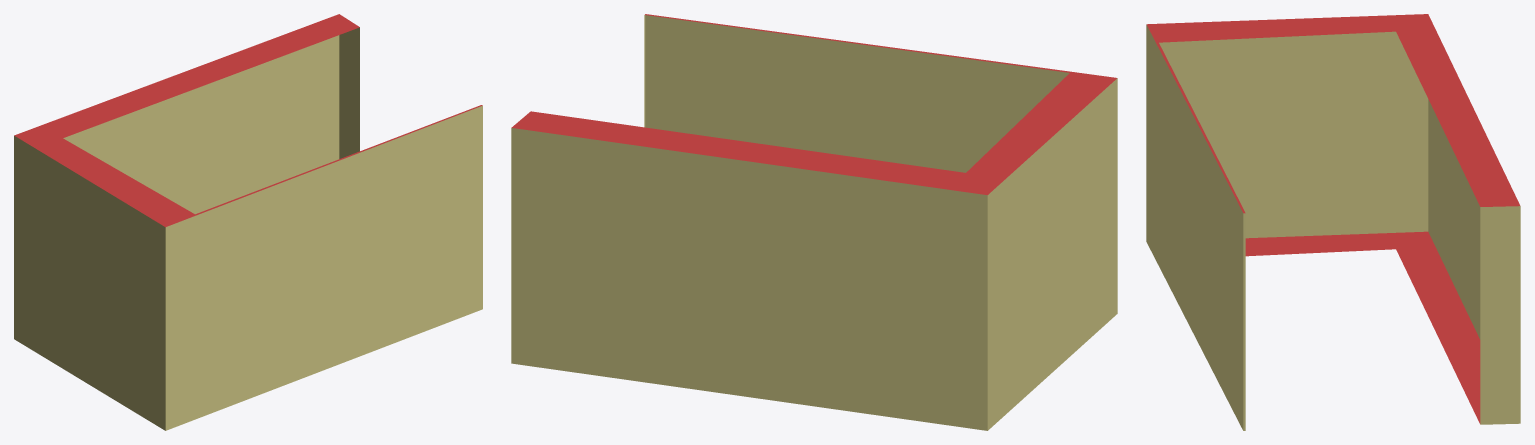
The picture shows the model from 3 angles, left to right: view 1: azimuth 30°, elevation 25°; view 2: azimuth 150°, elevation 25°; view 3: azimuth 270°, elevation 25°; orthographic projection. The views are drawn at different scales.
Visible parts, largest first — view 1: group_4, group_3; view 2: group_4, group_3; view 3: group_4, group_3, group_5.
Part boxes in pixels (x1,y1,x2,y2): group_4: (14,27,482,430); group_3: (14,14,482,227); group_4: (511,15,1117,430); group_3: (511,14,1116,195); group_4: (1146,24,1520,430); group_3: (1146,14,1520,213); group_5: (1245,231,1480,423).
Bounding box in the file's own units: 18.83 × 14.93 × 9.59.
